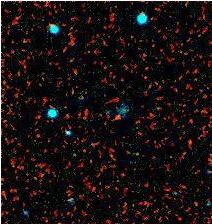star: (103, 102, 133, 132)
